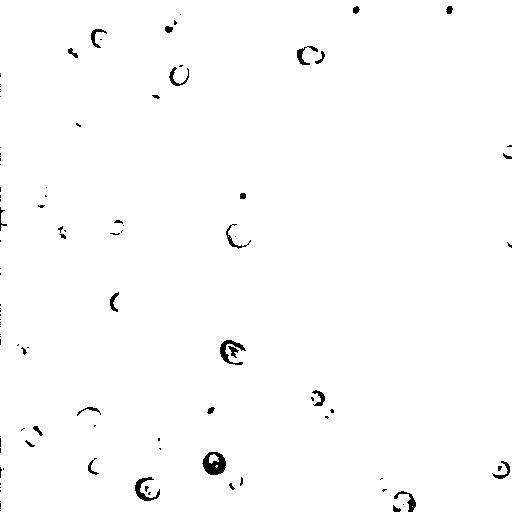micro-algae: (49, 381, 154, 484), (303, 426, 379, 500), (73, 82, 137, 146), (440, 11, 500, 74), (48, 156, 107, 215), (48, 312, 99, 361), (140, 375, 186, 420), (203, 29, 246, 75), (232, 350, 275, 394), (470, 110, 511, 152), (25, 407, 64, 448), (128, 402, 167, 441), (20, 103, 57, 140), (193, 398, 229, 430), (153, 5, 184, 41), (16, 81, 49, 114), (0, 457, 23, 504), (24, 184, 58, 214), (472, 50, 502, 82), (57, 37, 88, 67), (224, 221, 255, 251), (66, 104, 95, 134), (75, 405, 104, 435), (218, 339, 249, 367), (133, 475, 165, 502), (295, 43, 327, 68), (341, 0, 370, 26), (372, 475, 401, 501), (17, 423, 44, 449), (202, 450, 228, 477), (318, 399, 345, 425), (435, 1, 464, 25), (107, 290, 135, 313), (14, 338, 36, 365), (172, 0, 211, 15), (304, 387, 329, 410), (169, 62, 191, 88), (86, 454, 111, 476), (392, 490, 418, 511), (89, 28, 111, 51), (263, 92, 286, 113), (488, 459, 511, 480), (499, 419, 512, 456), (53, 222, 74, 244), (102, 217, 125, 236), (0, 439, 15, 468), (228, 468, 246, 491), (152, 432, 171, 452), (436, 69, 452, 88), (235, 189, 252, 204), (502, 226, 512, 250), (2, 208, 12, 230), (502, 143, 511, 160)
